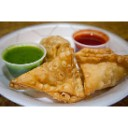samosa: (10, 47, 84, 101), (79, 46, 127, 95)
